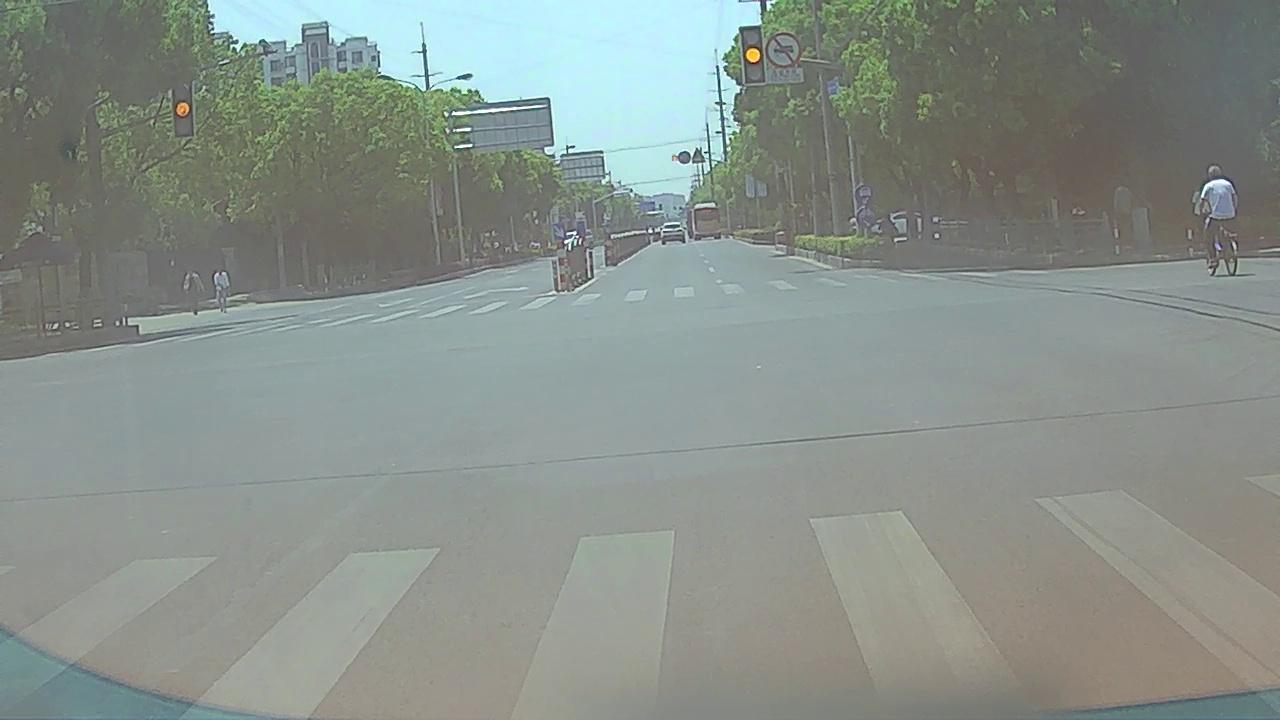traffic_light: (742, 27, 764, 84), (173, 82, 193, 136)
